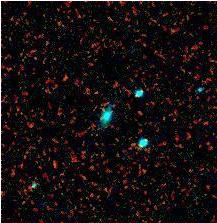star: (22, 181, 52, 211)
